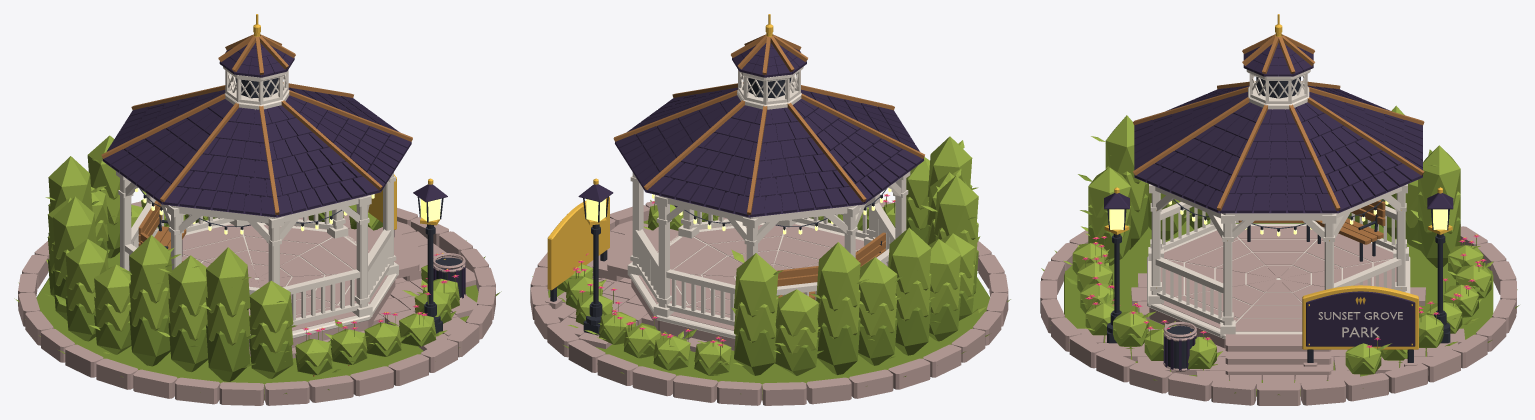
Rendered from bld.gazebo.glb.
3 renders of one model, left to right at view 1: azimuth 30°, elevation 25°; view 2: azimuth 150°, elevation 25°; view 3: azimuth 270°, elevation 25°, orthographic.
Bounding box in the file's own units: 10.68 × 7.07 × 10.55.
